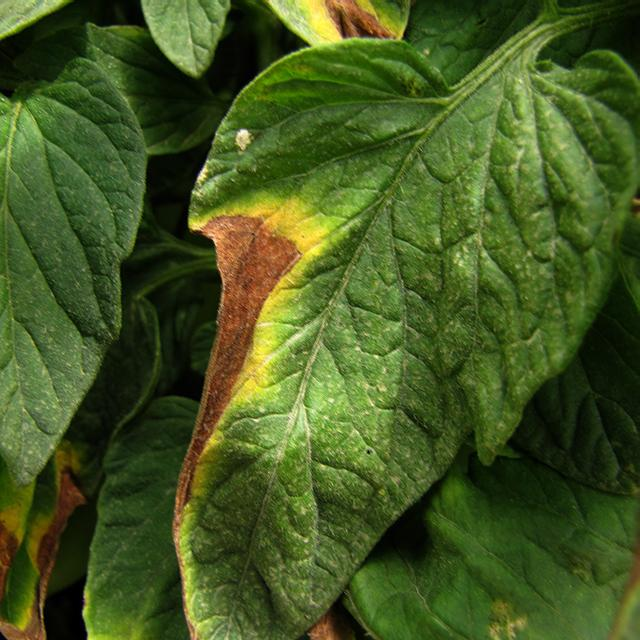Tomato leaf bacterial spot: (170, 23, 627, 640)
